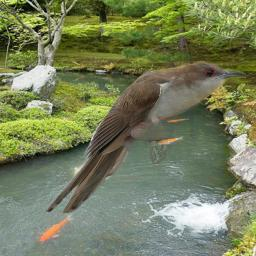Cuckoo: (45, 61, 246, 213)
